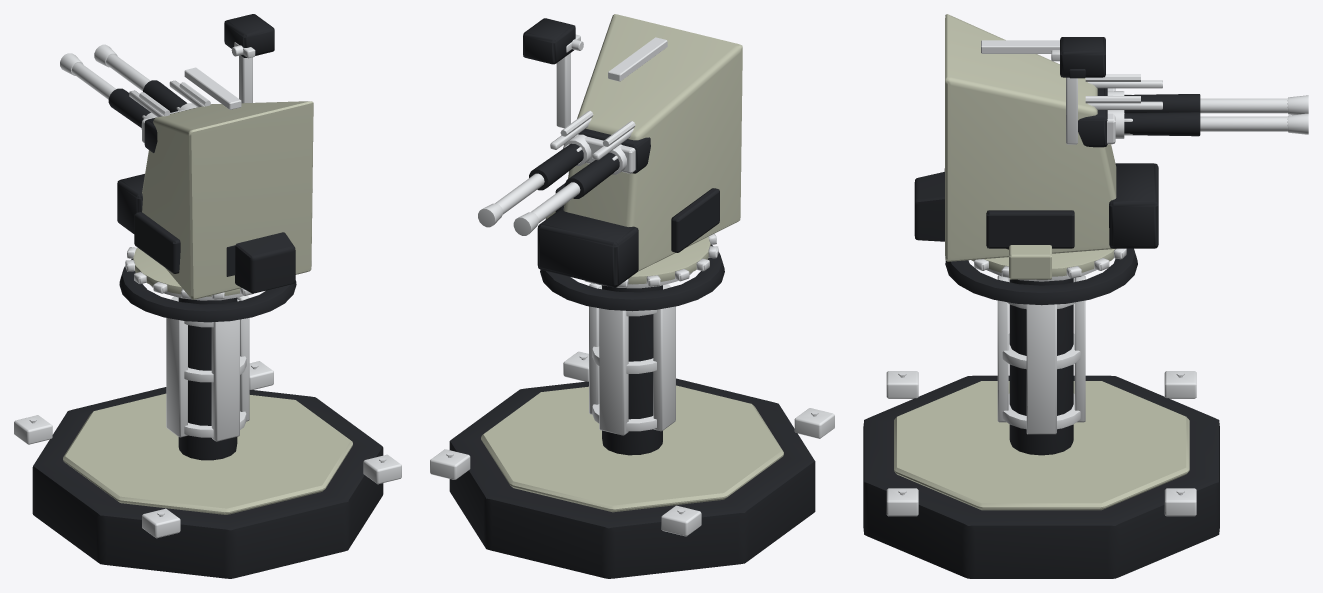
Rendered from sentry.glb.
3 views of the same model, side by side, from view 1: azimuth 30°, elevation 25°; view 2: azimuth 150°, elevation 25°; view 3: azimuth 270°, elevation 25° (orthographic). The views are drawn at different scales.
Visible parts, largest first — view 1: PedestalDeck, TurretBody, PedestalPanel, YawOuterRace, NeckColumn, NeckBrace3, RearBustle, NeckBrace2, ArmorL, SensorHousing, GunShroud, YawRing (+11 smaller); view 2: PedestalDeck, TurretBody, PedestalPanel, GunShroud, YawOuterRace, NeckColumn, NeckBrace1, NeckBrace2, ArmorL, SensorHousing, YawRing, BarrelSleeveR (+14 smaller); view 3: PedestalDeck, TurretBody, PedestalPanel, NeckColumn, YawOuterRace, NeckBrace0, GunShroud, ArmorR, RearBustle, BarrelSleeveR, SensorHousing, Servo (+15 smaller).
Part boxes in pixels (x1,y1,x2,y2): PedestalDeck: (32, 387, 383, 578); TurretBody: (142, 101, 313, 299); PedestalPanel: (63, 393, 352, 514); YawOuterRace: (119, 259, 296, 322); NeckColumn: (178, 297, 237, 460); NeckBrace3: (211, 319, 239, 441); RearBustle: (235, 232, 295, 293); NeckBrace2: (166, 318, 187, 437); ArmorL: (134, 212, 180, 273); SensorHousing: (224, 14, 274, 57); GunShroud: (117, 174, 144, 233); YawRing: (133, 248, 240, 296); PedestalDeck: (449, 378, 815, 578); TurretBody: (563, 14, 742, 271); PedestalPanel: (481, 385, 783, 512); GunShroud: (537, 209, 638, 287); YawOuterRace: (540, 245, 724, 311); NeckColumn: (602, 285, 662, 455); NeckBrace1: (599, 308, 628, 435); NeckBrace2: (653, 306, 675, 431); ArmorL: (671, 188, 719, 252); SensorHousing: (523, 18, 575, 64); YawRing: (628, 237, 710, 284); BarrelSleeveR: (529, 143, 583, 190); PedestalDeck: (863, 375, 1219, 578); TurretBody: (945, 14, 1116, 261); PedestalPanel: (894, 381, 1189, 510); NeckColumn: (1009, 278, 1073, 455); YawOuterRace: (945, 248, 1137, 305); NeckBrace0: (1026, 304, 1056, 434); GunShroud: (1109, 163, 1158, 248); ArmorR: (986, 210, 1074, 248); RearBustle: (914, 171, 944, 241); BarrelSleeveR: (1124, 112, 1200, 136); SensorHousing: (1060, 37, 1105, 77); Servo: (1009, 245, 1051, 279).
Size of the model in its own units: 0.6467 by 0.9863 by 0.8074.
